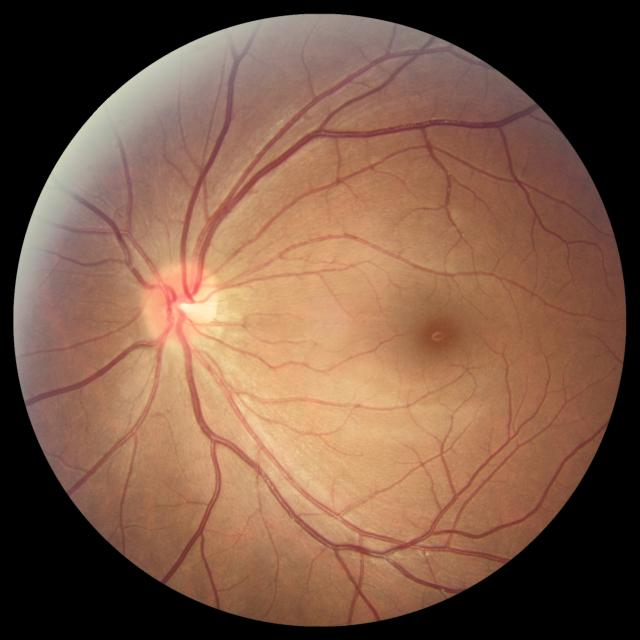OC: (172, 292, 204, 324)
OD: (144, 260, 222, 352)
